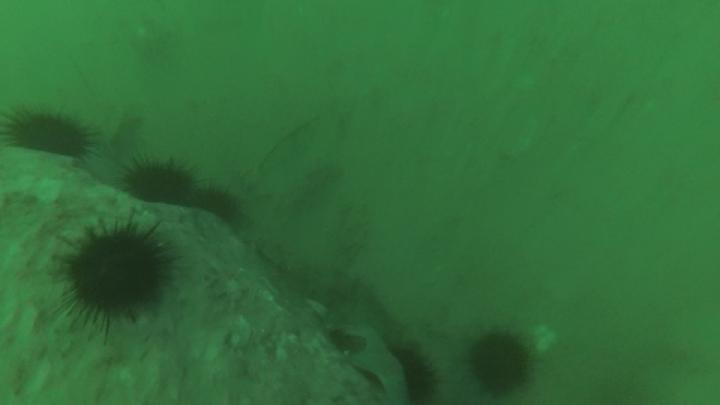echinus: (51, 207, 186, 347), (460, 317, 544, 405), (1, 104, 104, 167), (118, 148, 194, 205), (387, 342, 446, 405), (189, 177, 249, 228)
